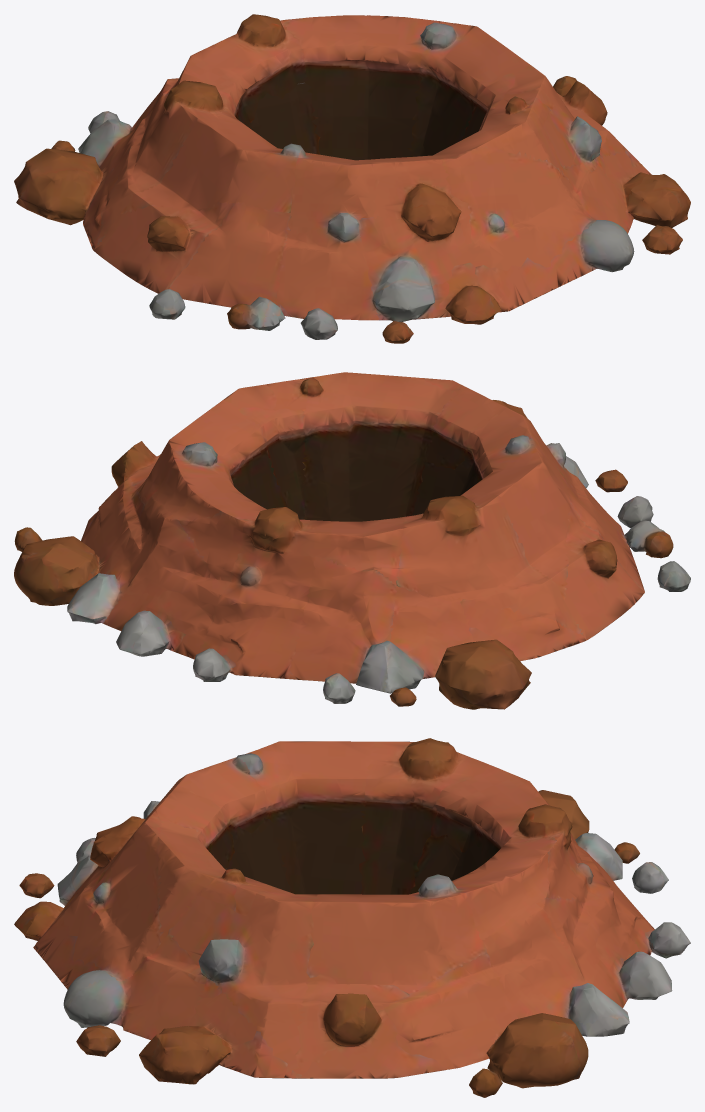
Rendered from burrow_hole.glb.
3 renders of one model, top to bottom at view 1: azimuth 30°, elevation 25°; view 2: azimuth 150°, elevation 25°; view 3: azimuth 270°, elevation 25°, orthographic. The views are drawn at different scales.
Bounding box in the file's own units: 1.9 × 0.5654 × 1.87.
1 material, 1 textured.
